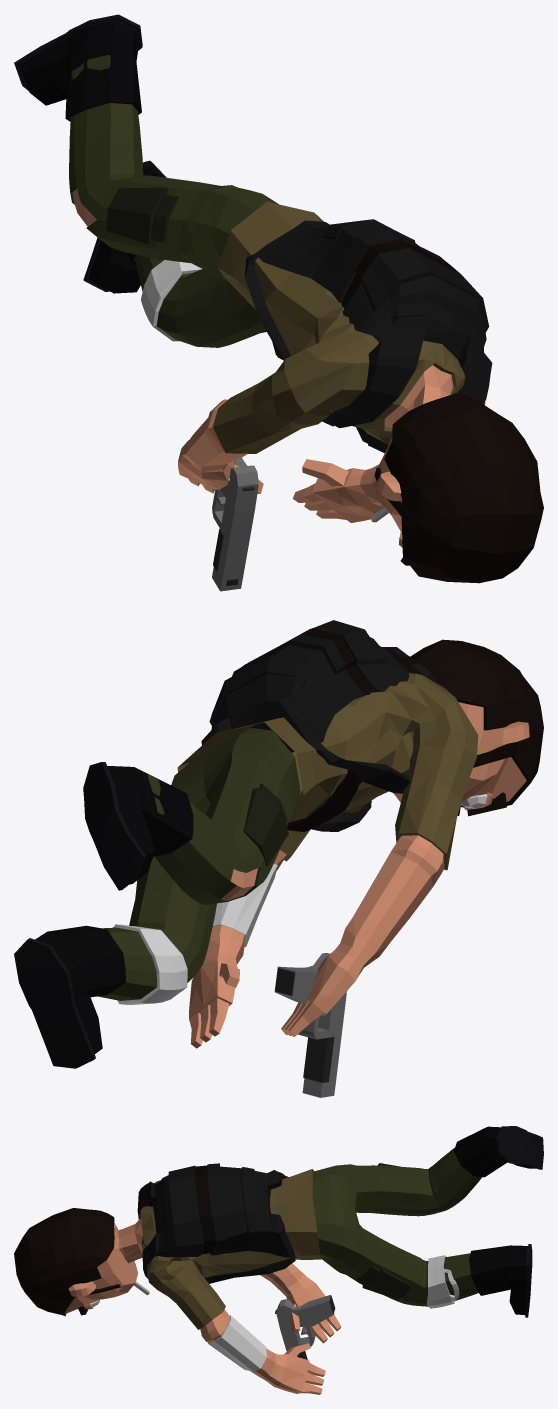
The model's file is frame_0059.obj.
3 renders of one model, top to bottom at view 1: azimuth 30°, elevation 25°; view 2: azimuth 150°, elevation 25°; view 3: azimuth 270°, elevation 25°, orthographic. The views are drawn at different scales.
Parts seen in each view (by area): view 1: Body, Gun; view 2: Body, Gun; view 3: Body, Gun.
Part boxes in pixels (box(x1,y1,x2,y2)): Body: box(14, 14, 543, 583); Gun: box(212, 457, 258, 591); Body: box(14, 620, 543, 1068); Gun: box(274, 953, 346, 1097); Body: box(14, 1126, 543, 1394); Gun: box(275, 1295, 335, 1359).
Bounding box in the file's own units: 1.29 × 2.31 × 4.09.
